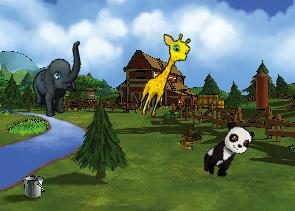elephant: (25, 41, 92, 119)
giraffe: (135, 28, 194, 123)
panda: (197, 117, 257, 184)
